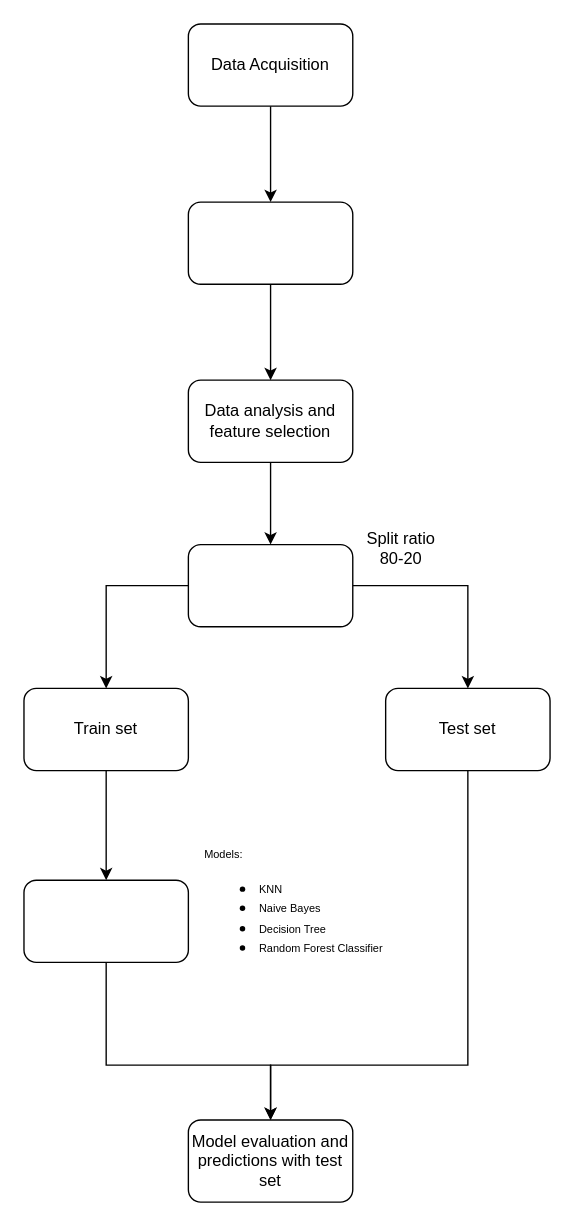
Some shapes in this 574 by 1226 pixel diagram are drawn without their labels. Here are the shapes that lost their labels. From the top down, the centre of each, then its label:
At point (270, 242): "Data Pre-Processing and Cleaning".
At point (270, 585): "Dataset splitting".
At point (105, 920): "Model selection and fitting to the train set".
